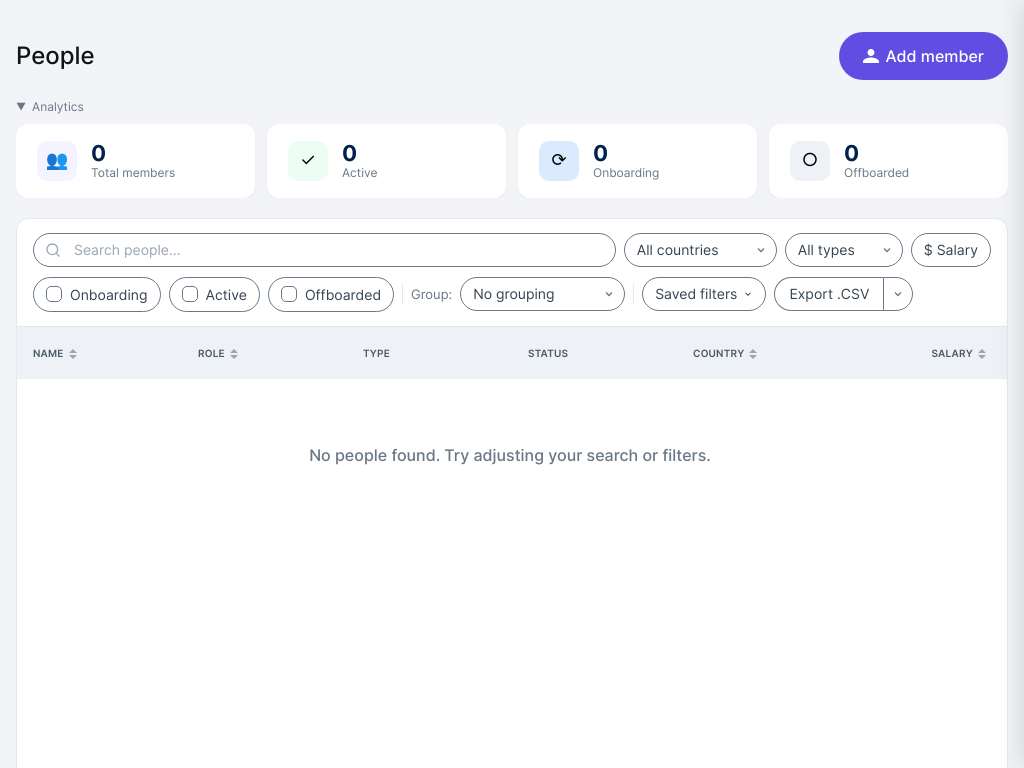
Test case: PeoplePage › opens Add member modal when button is clicked
Click the button "Add member" at (924, 56), box [839, 32, 1008, 80]
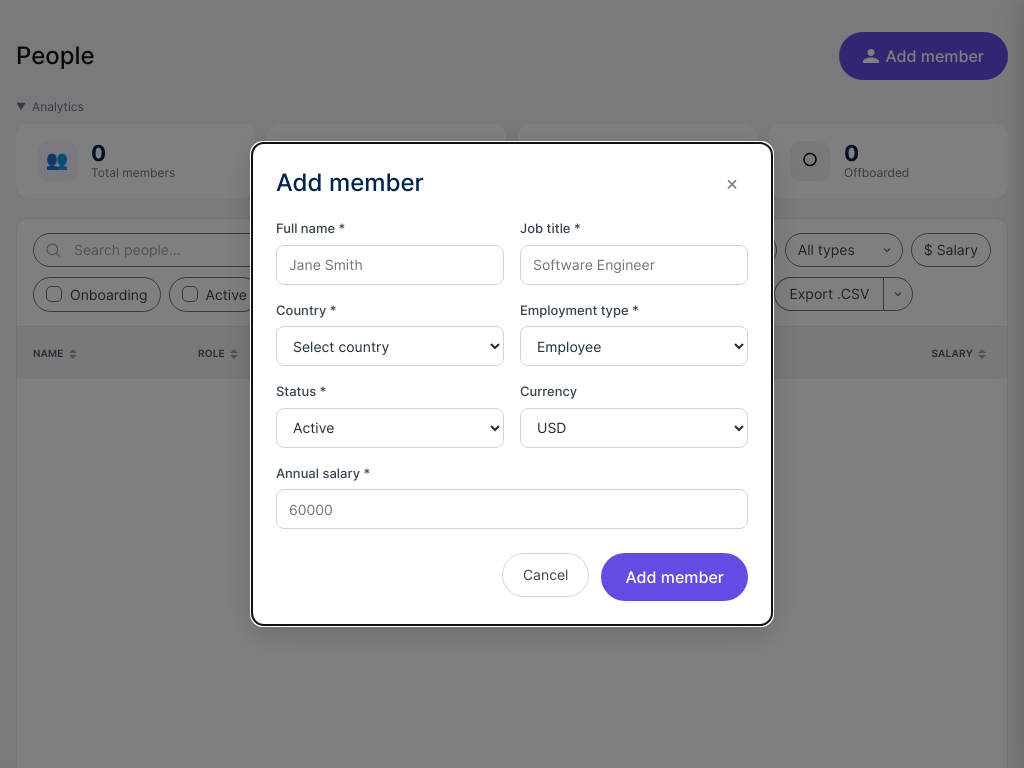
Result: the dialog "Add member" is shown at [252, 143, 772, 625]
